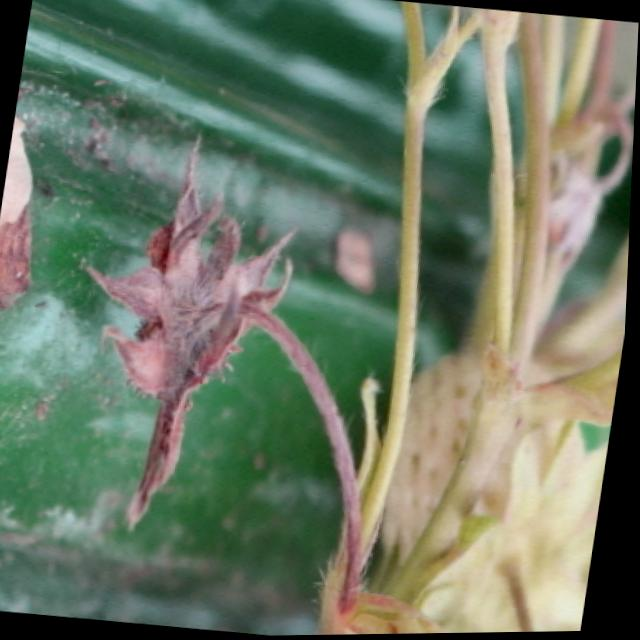Gray Mold: (85, 129, 337, 529)
